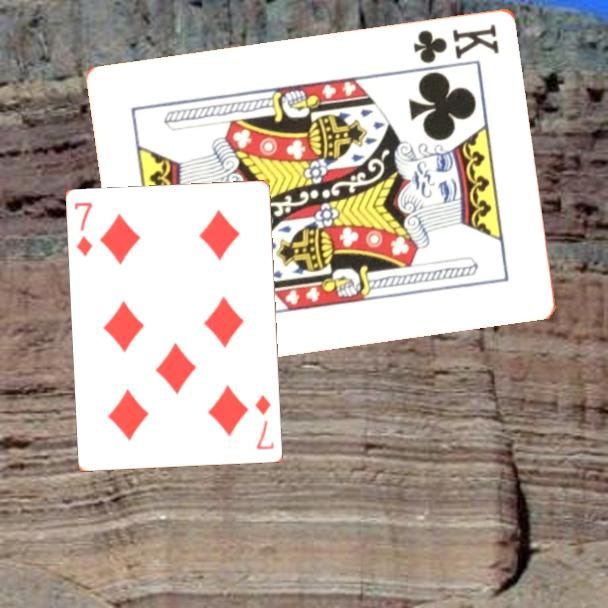c13: (410, 20, 503, 66)
d07: (252, 392, 277, 453), (71, 199, 96, 259)
